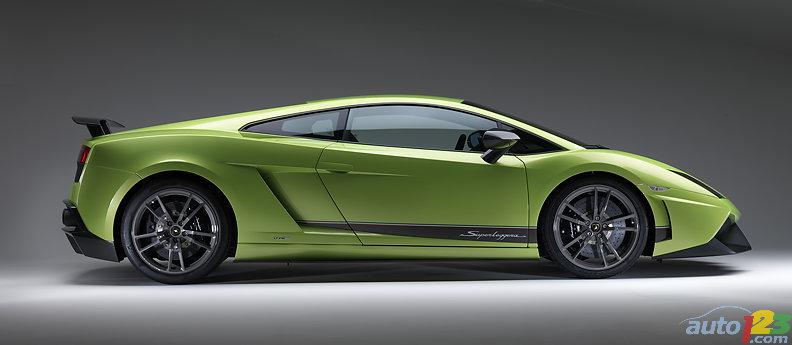Car: (45, 57, 770, 292)
